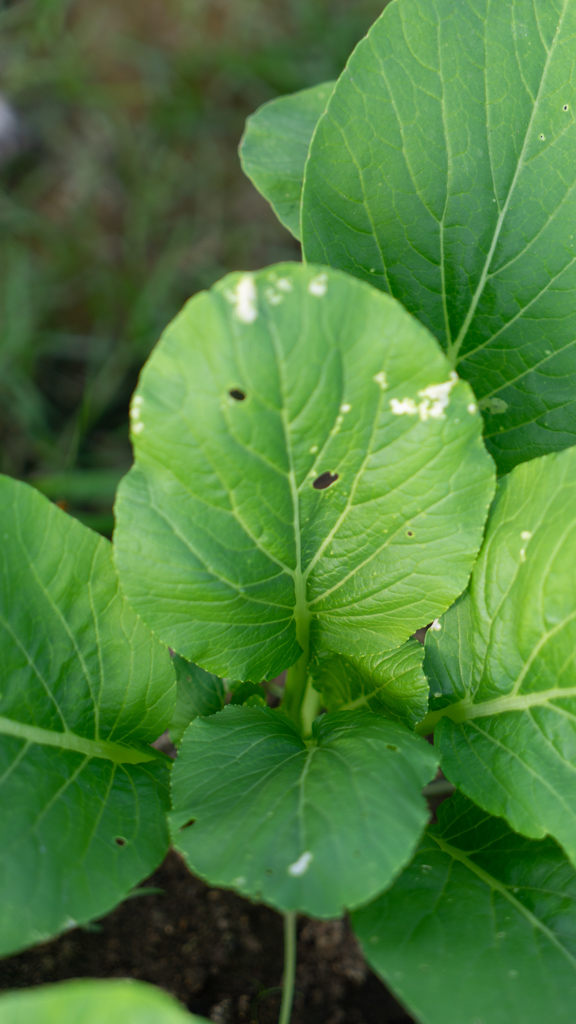Canker: (224, 269, 334, 322), (373, 364, 465, 424)
